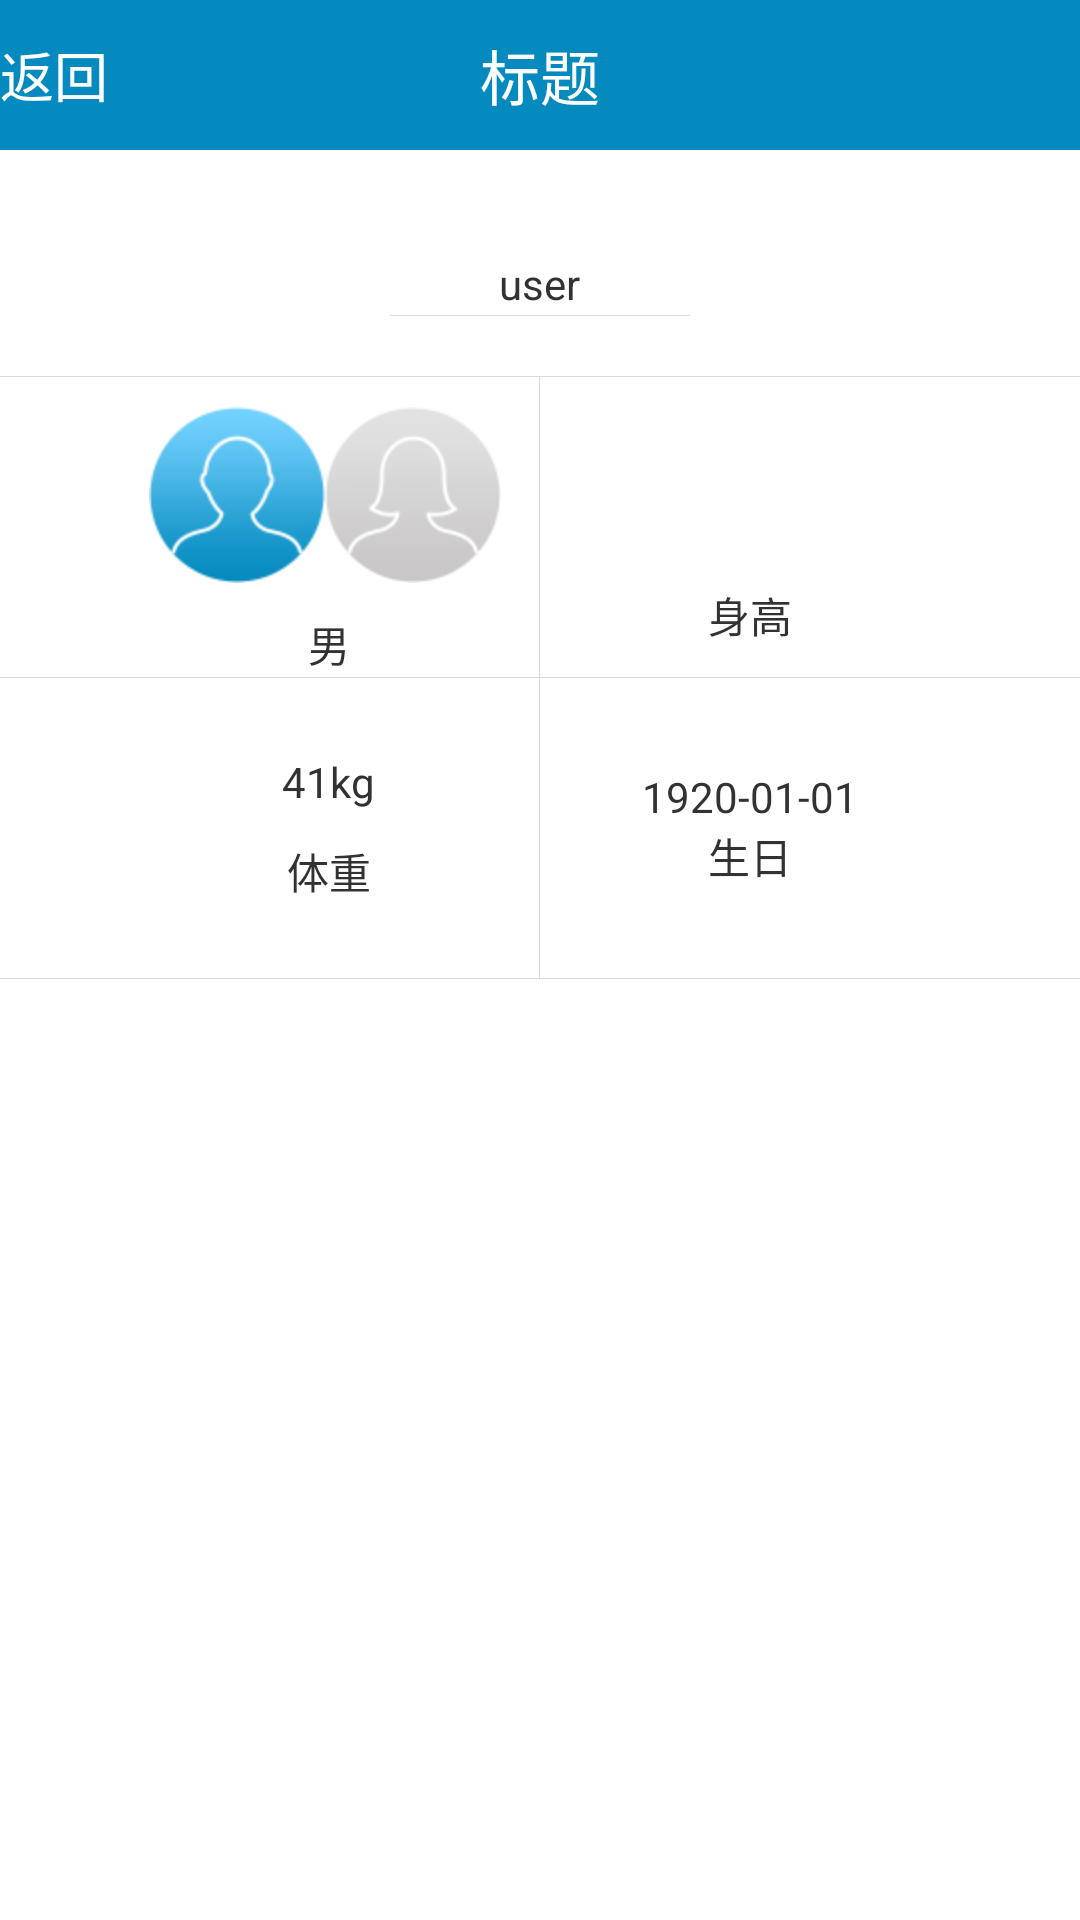

Screen size 1080 x 1920. Icon name, then its box in pixels as (x1, y1, x2, y2):
women: (327, 410, 499, 582)
